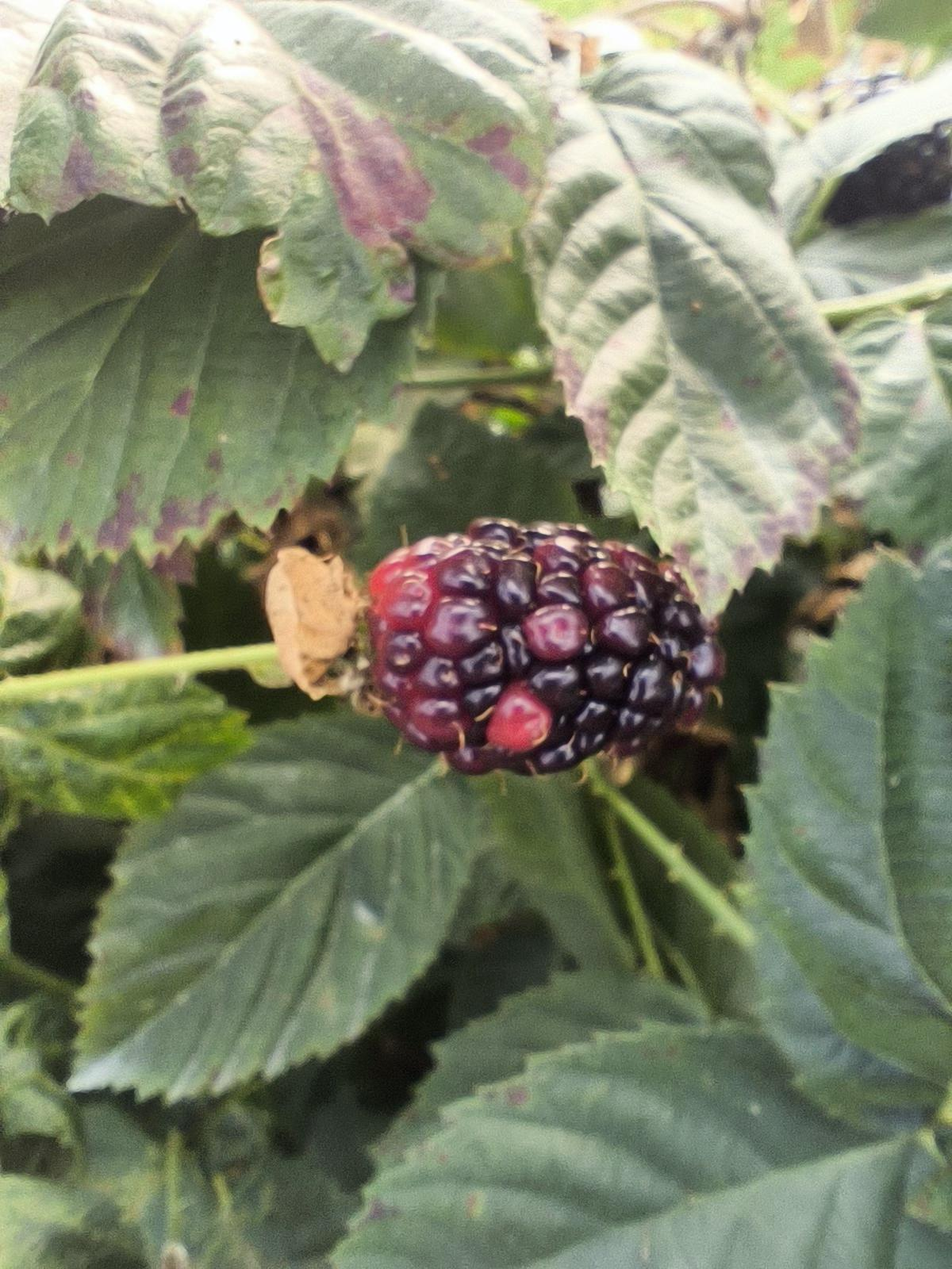marron: (369, 517, 721, 774)
